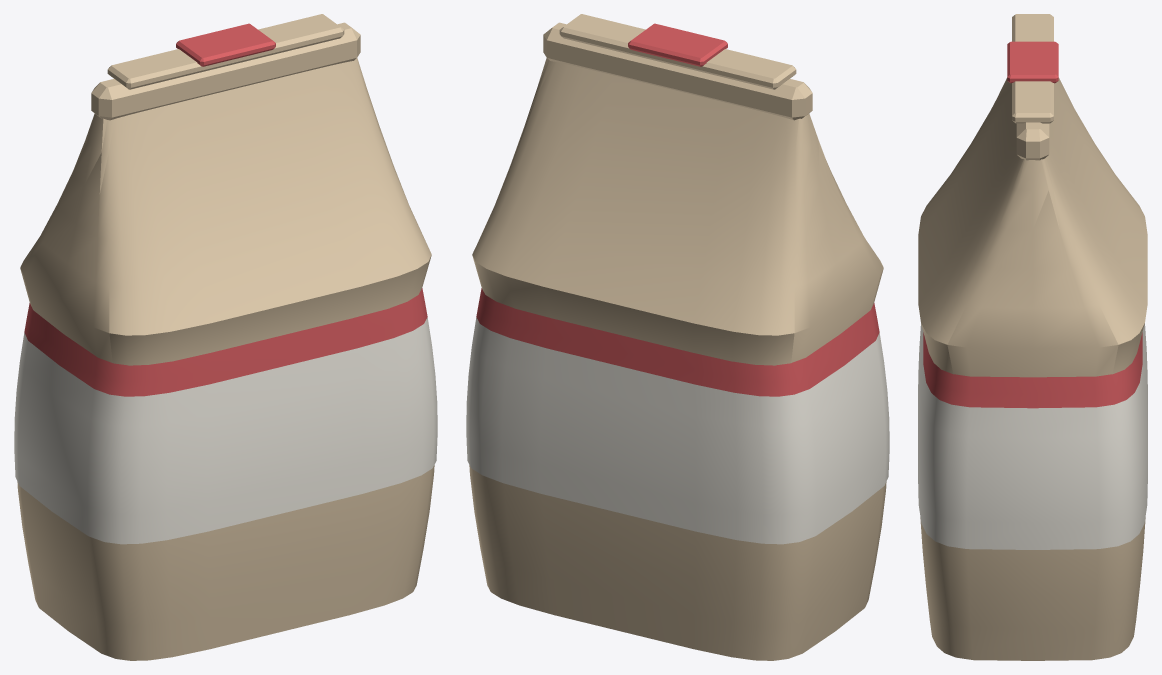
Rendered from fresh-produce-and-groceries-flour-bag-a34f7213__24425.glb.
3 views of the same model, side by side, from view 1: azimuth 30°, elevation 25°; view 2: azimuth 150°, elevation 25°; view 3: azimuth 270°, elevation 25° (orthographic). The views are drawn at different scales.
Parts seen in each view (by area): view 1: flour-bag; view 2: flour-bag; view 3: flour-bag.
Part boxes in pixels (<box>): flour-bag: <box>14,14,437,660</box>; flour-bag: <box>466,14,889,660</box>; flour-bag: <box>918,14,1147,660</box>.
Size of the model in its own units: 0.167 by 0.2515 by 0.0991.
